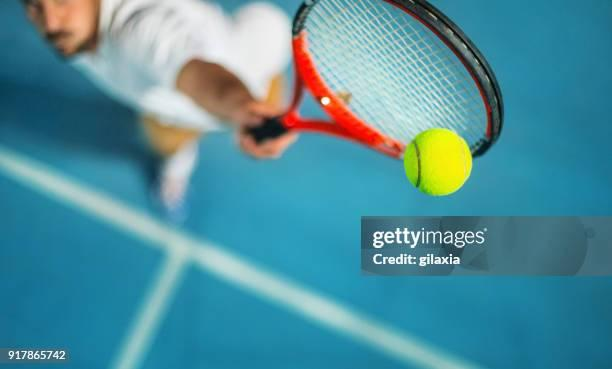ball_tennis: (403, 126, 475, 201)
